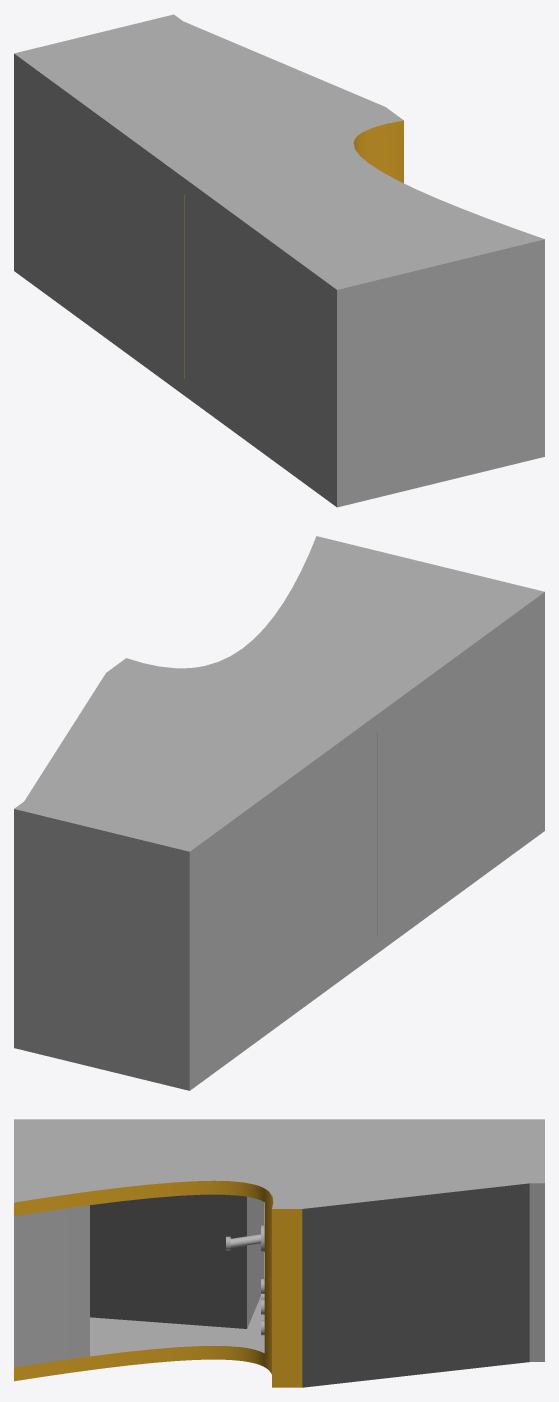
Rendered from GameMachineBlack.fbx.
3 views of the same model, one above another, from view 1: azimuth 30°, elevation 25°; view 2: azimuth 150°, elevation 25°; view 3: azimuth 270°, elevation 25° (orthographic). The views are drawn at different scales.
Parts seen in each view (by area): view 1: Body1; view 2: Body1; view 3: Body1.
Part boxes in pixels (x1,y1,x2,y2): Body1: (14,14,544,507); Body1: (14,536,544,1090); Body1: (14,1119,544,1387).
Size of the model in its own units: 2.8 by 2.6 by 7.
